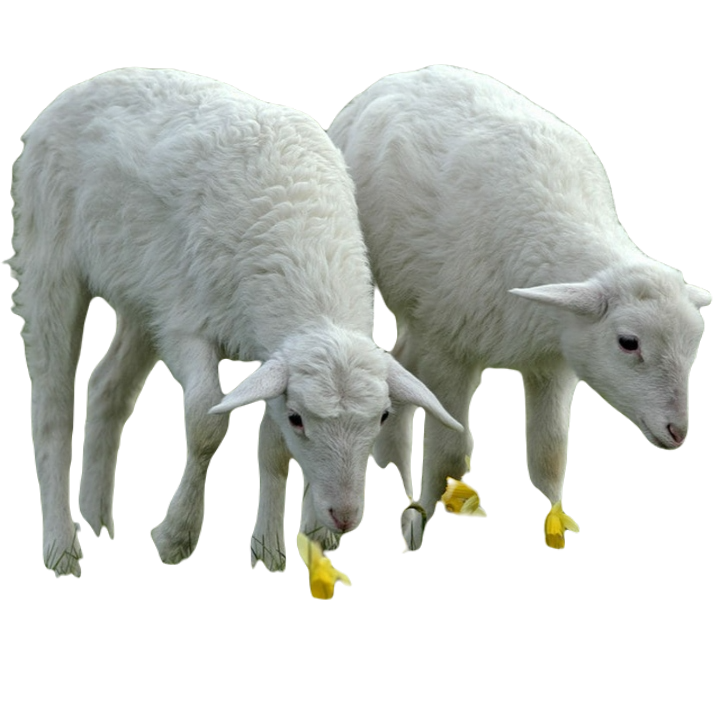Sheep: (5, 64, 465, 579), (470, 69, 719, 552)
